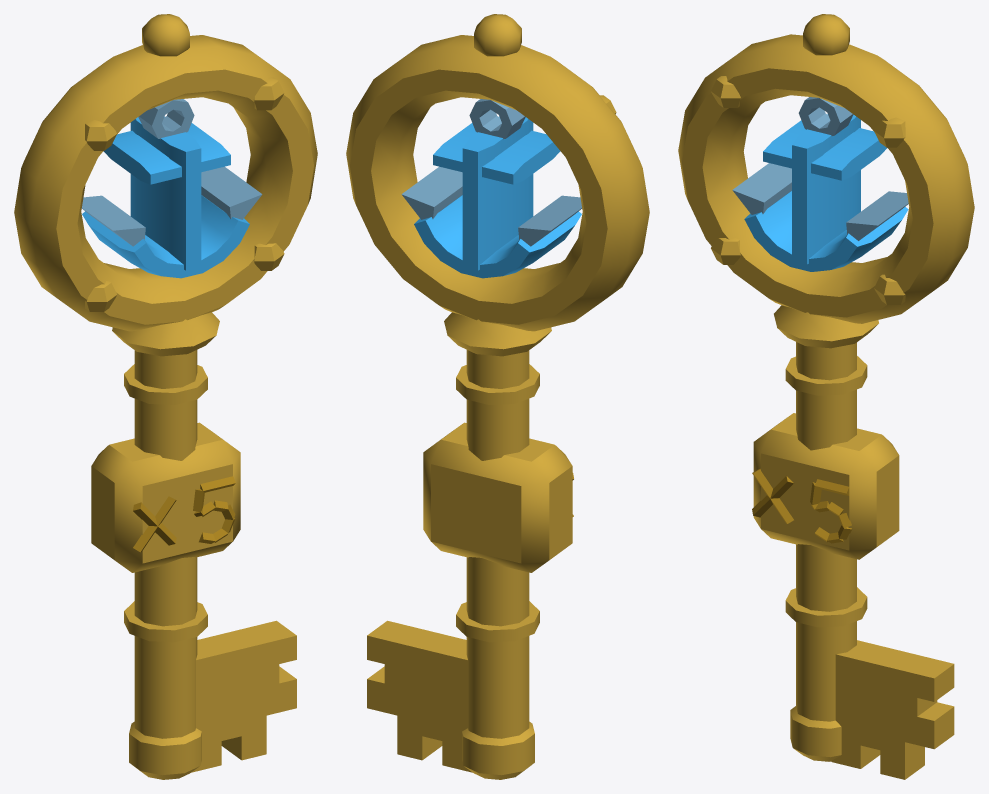
Rendered from 119_cle_x5_ancre.fbx.
3 views of the same model, side by side, from view 1: azimuth 30°, elevation 25°; view 2: azimuth 150°, elevation 25°; view 3: azimuth 330°, elevation 25° (orthographic). The views are drawn at different scales.
Visible parts, largest first — view 1: Anneau, Tige, Ancre, Panneton; view 2: Anneau, Tige, Ancre, Panneton; view 3: Anneau, Tige, Ancre, Panneton.
Part boxes in pixels (box(x1,y1,x2,y2)): Anneau: box(14, 14, 317, 356); Tige: box(91, 350, 240, 738); Ancre: box(81, 99, 262, 278); Panneton: box(129, 620, 296, 779); Anneau: box(346, 14, 649, 356); Tige: box(423, 350, 573, 738); Ancre: box(401, 99, 582, 278); Panneton: box(367, 620, 534, 779); Anneau: box(678, 14, 974, 348); Tige: box(752, 342, 899, 721); Ancre: box(732, 97, 908, 271); Panneton: box(790, 640, 954, 779).
Bounding box in the file's own units: 0.336 × 0.84 × 0.112.
1 material, 1 textured.
